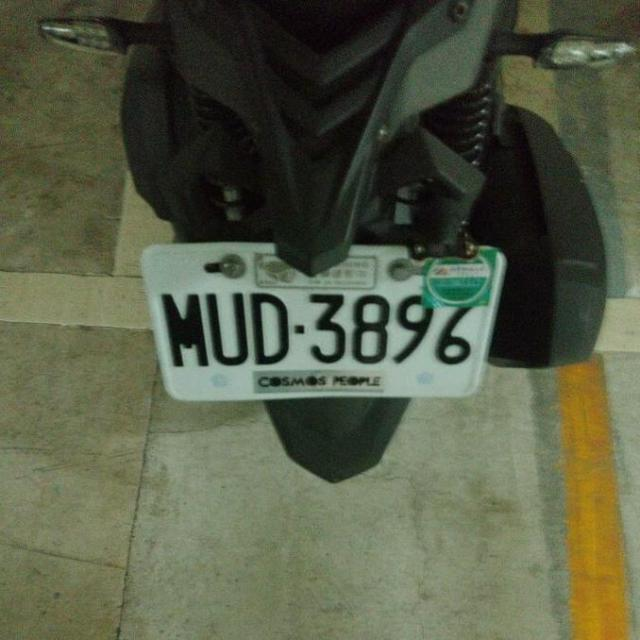W: (131, 218, 513, 420)
